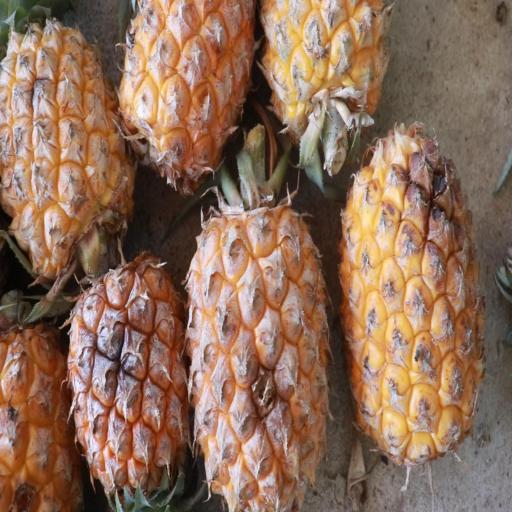Pineapple - v8 v1: (184, 149, 337, 512), (338, 116, 491, 468), (0, 0, 139, 289), (64, 242, 188, 509), (118, 0, 258, 189), (254, 0, 390, 165), (0, 292, 79, 509)
